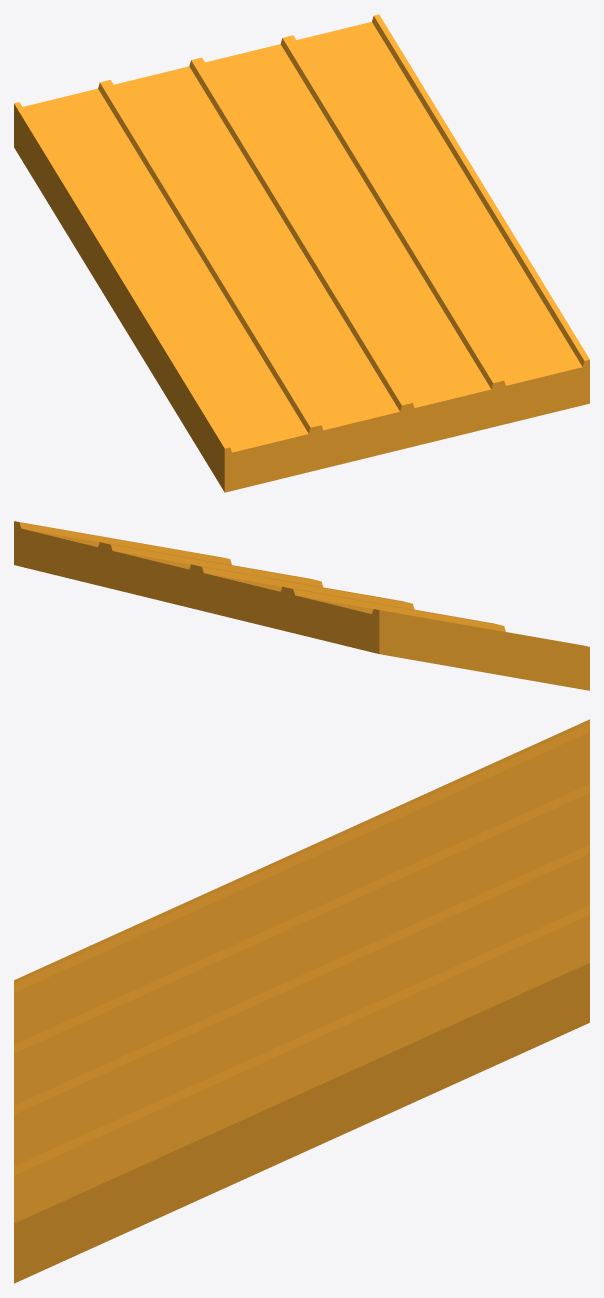
File: SM_Roof_Metal_Moderate_2x2m.fbx
The picture shows the model from 3 angles, top to bottom: view 1: azimuth 30°, elevation 25°; view 2: azimuth 150°, elevation 25°; view 3: azimuth 270°, elevation 25°; orthographic projection. The views are drawn at different scales.
Visible parts, largest first — view 1: roof-metal-moderate-2x2m; view 2: roof-metal-moderate-2x2m; view 3: roof-metal-moderate-2x2m.
Boxes of the visible parts, <box> form: roof-metal-moderate-2x2m: <box>14,14,589,492</box>; roof-metal-moderate-2x2m: <box>14,521,589,690</box>; roof-metal-moderate-2x2m: <box>14,719,589,1283</box>.
Bounding box in the file's own units: 2 × 1.23 × 2.
